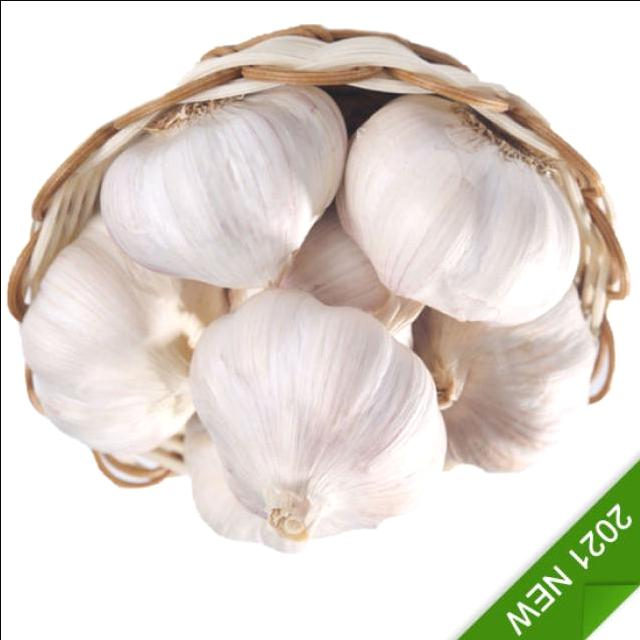garlic: (188, 293, 445, 542), (341, 102, 577, 327), (102, 88, 349, 293), (24, 225, 226, 453), (416, 268, 596, 472)
